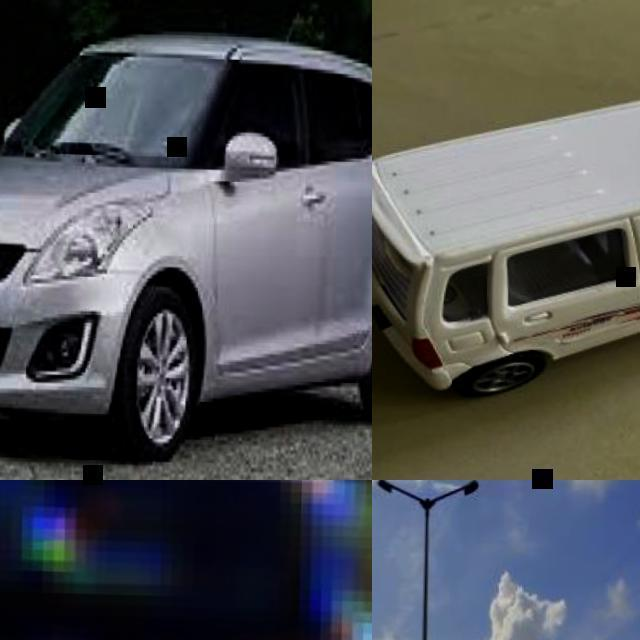car: (6, 29, 379, 460)
